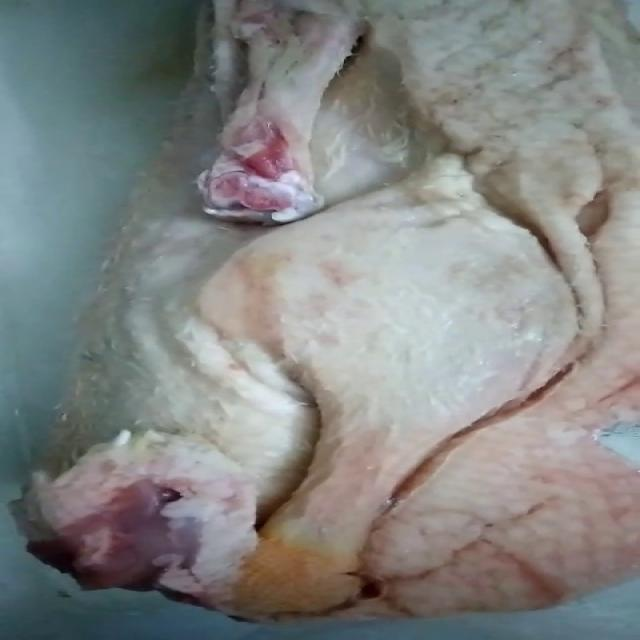chicken: (0, 1, 640, 623)
